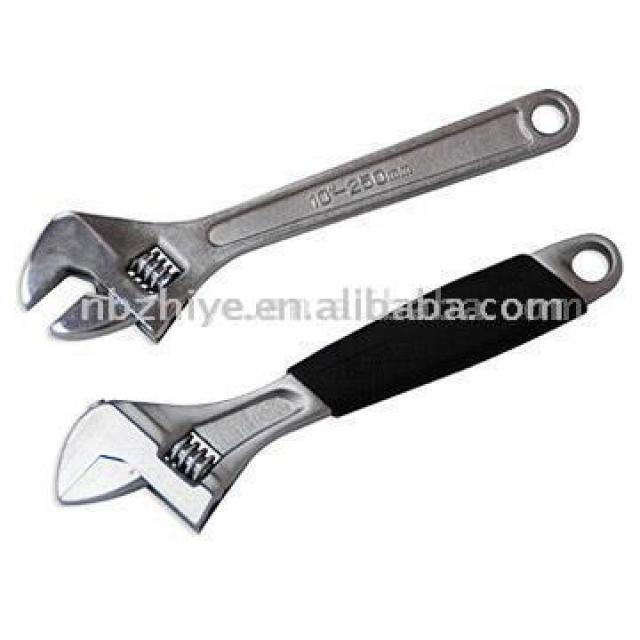wrench: (46, 228, 621, 541), (21, 86, 582, 346)
